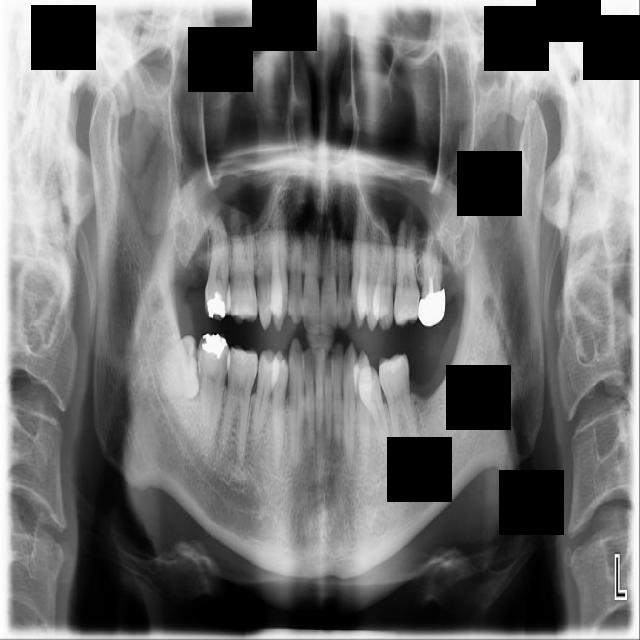52: (193, 331, 235, 382), (203, 275, 233, 322), (418, 281, 445, 327)
73: (418, 221, 443, 288), (608, 550, 614, 568)
BioHorizons Implant: (417, 224, 450, 328)
Caries: (204, 211, 235, 322)
Implant: (188, 333, 232, 438)
Keystone Dental Implant: (152, 335, 201, 401)
